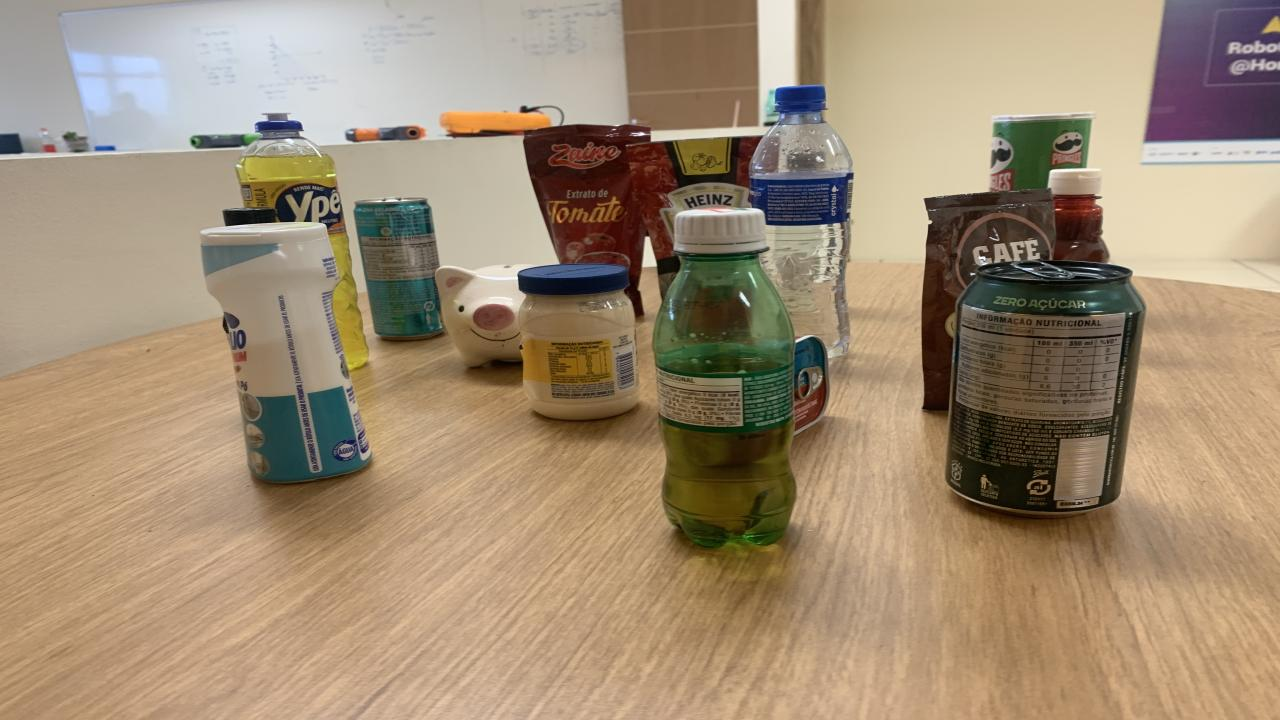Cleaner-Cleanup_Items: (200, 221, 372, 482)
Coffee-Pantry_Items: (922, 188, 1055, 411)
Detergent-Cleanup_Items: (235, 112, 368, 368)
English_Sauce-Pantry_Items: (222, 208, 278, 227)
Guarana-Drinks: (652, 208, 795, 548)
Guarana_Can-Drinks: (945, 259, 1145, 516)
Ketchup-Pantry_Items: (1048, 169, 1110, 262)
Mayonnaise-Pantry_Items: (518, 262, 640, 420)
Pig_Safe-Miscellaneous: (435, 264, 528, 368)
Pringles-Snacks: (990, 112, 1095, 191)
Tea-Drinks: (355, 197, 442, 339)
Tomato_Sauce-Pantry_Items: (522, 124, 650, 315), (628, 135, 760, 292)
Tuna_Can-Pantry_Items: (792, 336, 830, 433)
Water_Bottle-Drinks: (750, 86, 852, 358)
